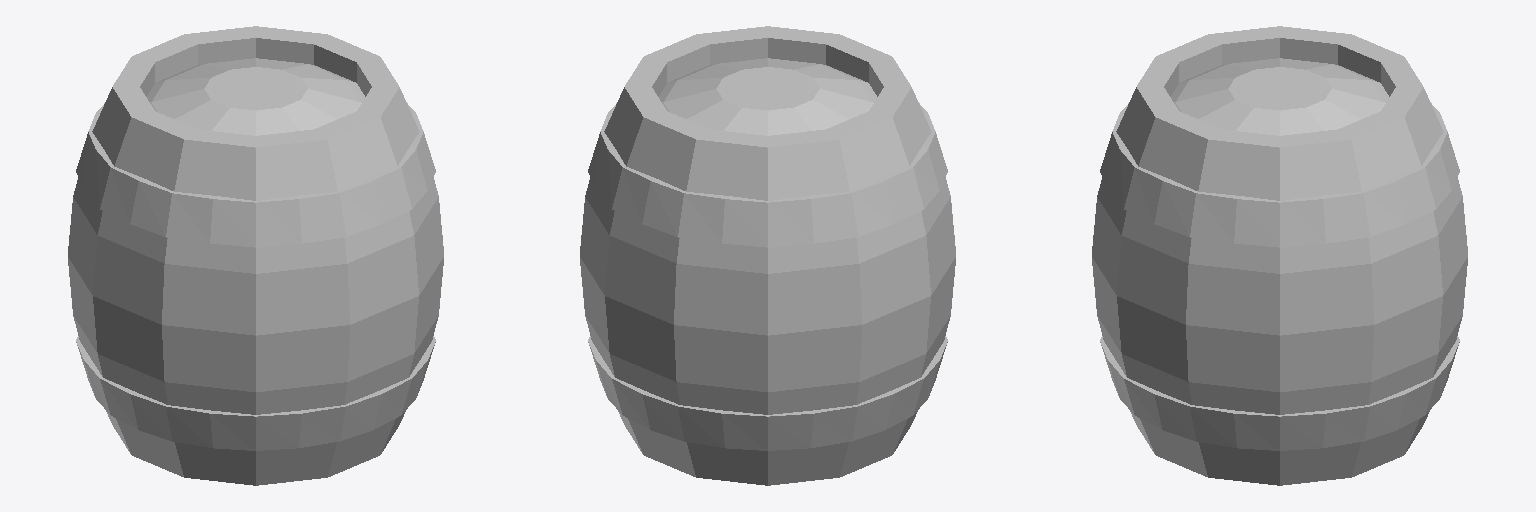
Rendered from barrel.obj.
3 views of the same model, side by side, from view 1: azimuth 30°, elevation 25°; view 2: azimuth 150°, elevation 25°; view 3: azimuth 270°, elevation 25° (orthographic).
Visible parts, largest first — view 1: initialShadingGroup Mesh; view 2: initialShadingGroup Mesh; view 3: initialShadingGroup Mesh.
Boxes of the visible parts, box(x1,y1,x2,y2) form: initialShadingGroup Mesh: box(68, 26, 443, 485); initialShadingGroup Mesh: box(580, 26, 955, 485); initialShadingGroup Mesh: box(1092, 26, 1467, 485).
Bounding box in the file's own units: 0.9837 × 0.974 × 0.9837.